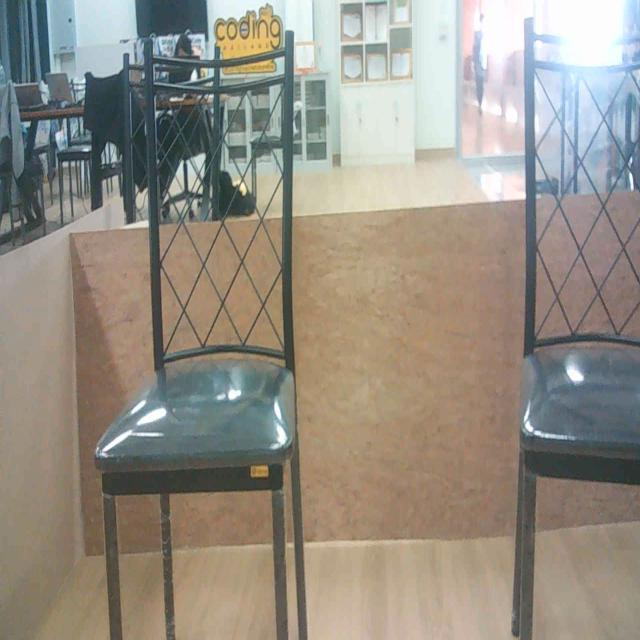emtpy: (110, 38, 312, 640), (515, 48, 640, 640)
